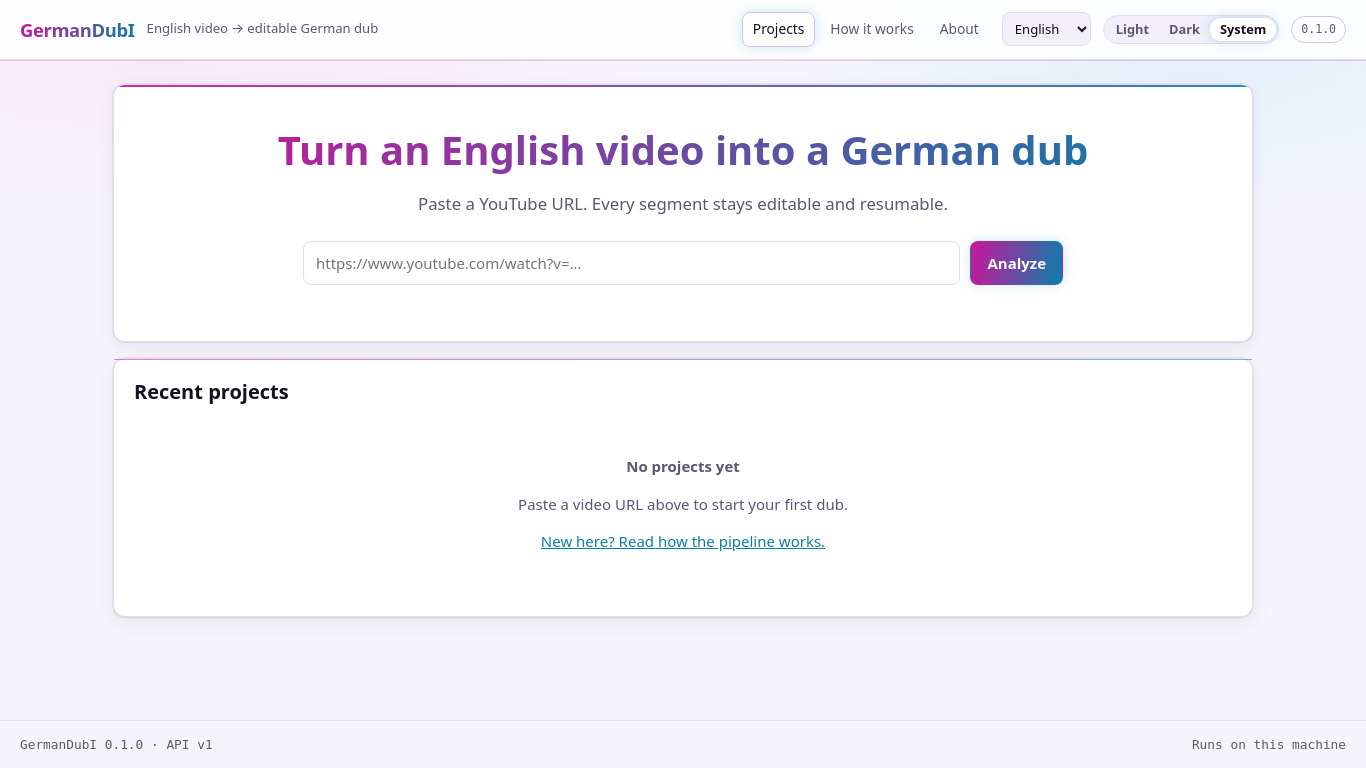
Test: creates and analyzes a project from the primary action
Type "https://www.youtube.com/watch?v=abcdefghijk" into the field named "YouTube URL" at (632, 263), box [303,241,960,285]
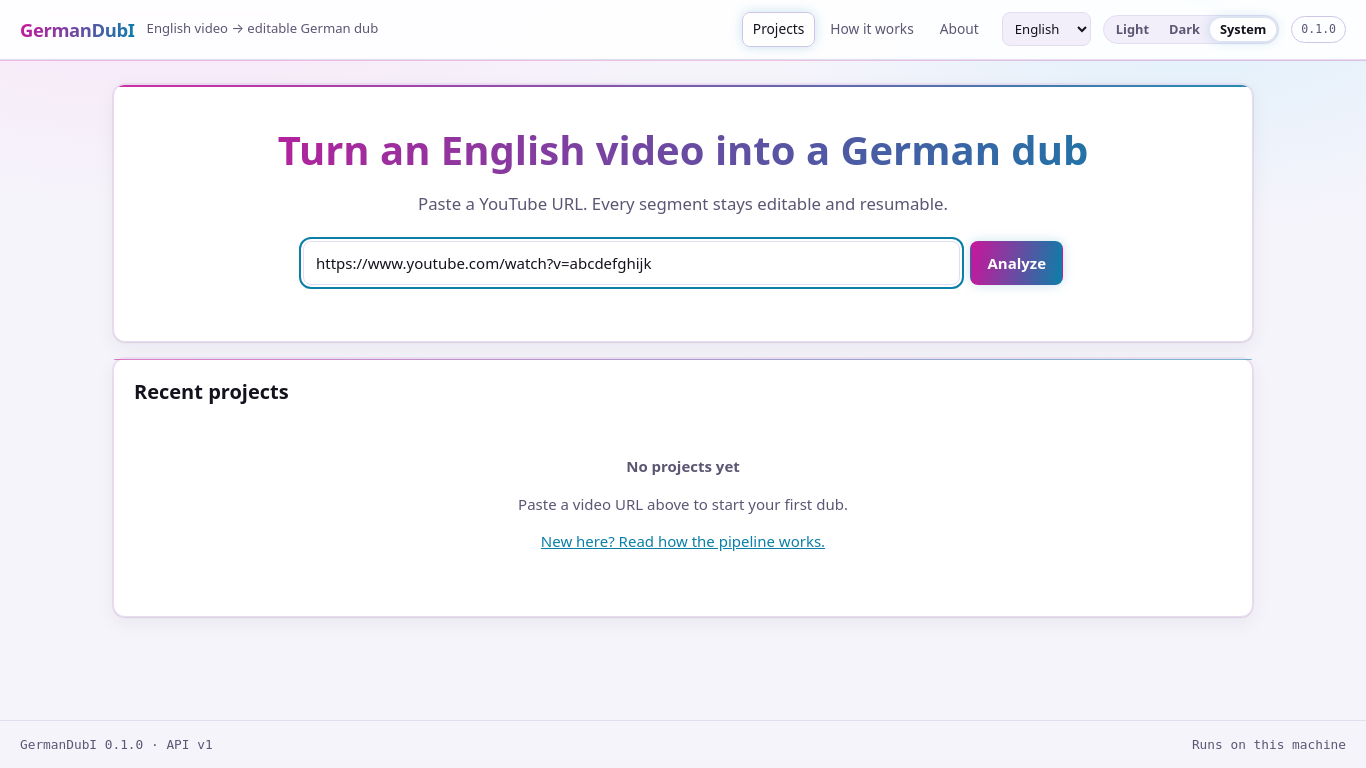
Click the button "Analyze" at (1017, 263), box [970,241,1063,285]
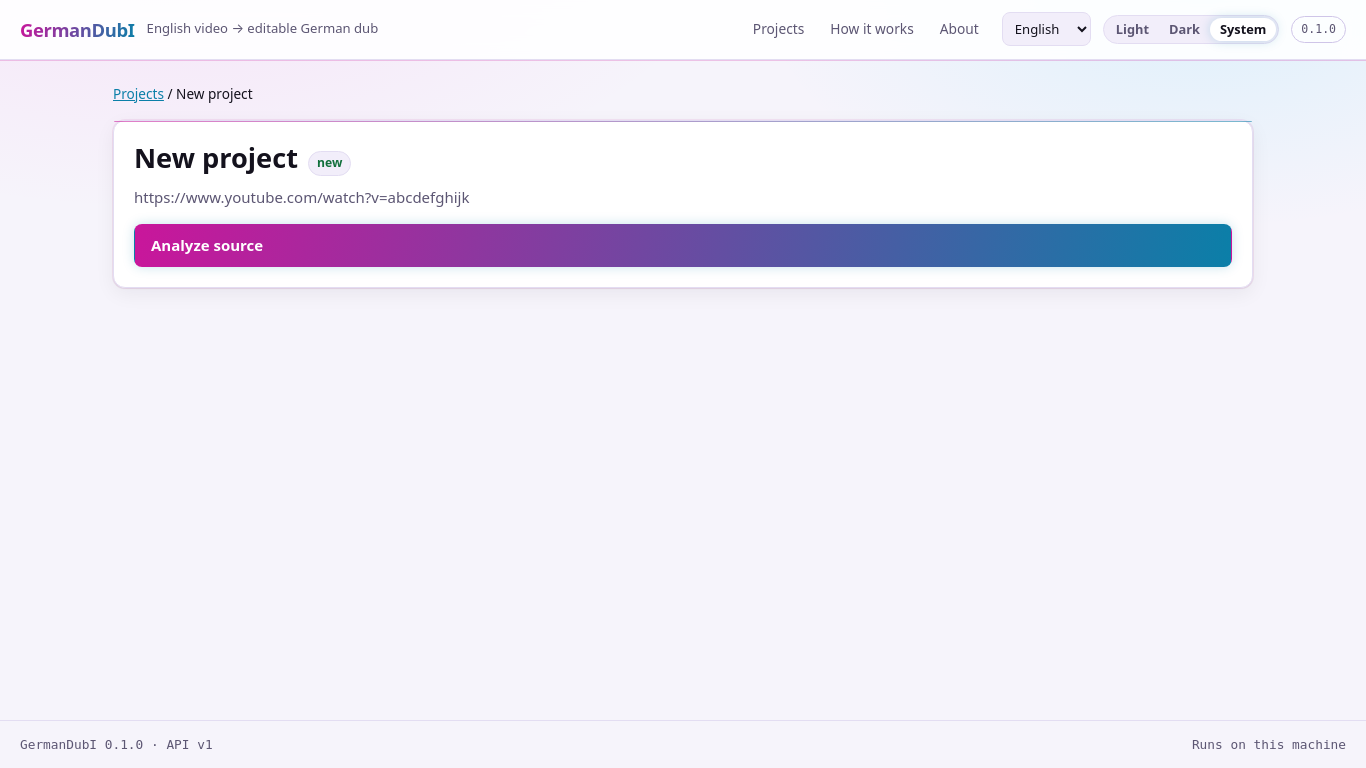
Check: the heading "New project" is shown, box [134,141,298,175]
